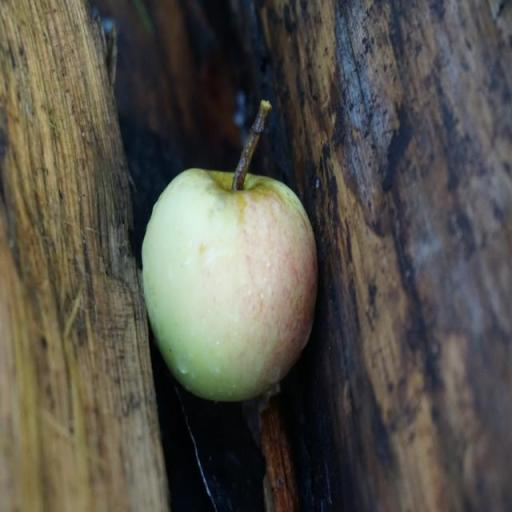fruit: (143, 102, 316, 400)
